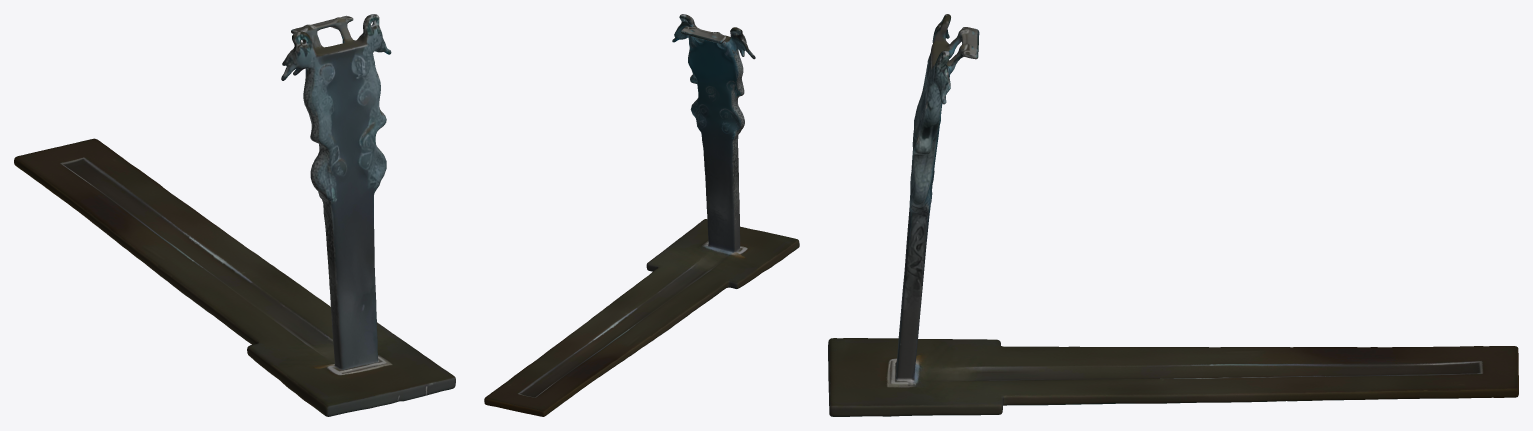
Rendered from guibiao！.fbx.
3 renders of one model, left to right at view 1: azimuth 30°, elevation 25°; view 2: azimuth 150°, elevation 25°; view 3: azimuth 270°, elevation 25°, orthographic. The views are drawn at different scales.
Visible parts, largest first — view 1: tripo_node_ae1849df; view 2: tripo_node_ae1849df; view 3: tripo_node_ae1849df.
Part boxes in pixels (x1=…): tripo_node_ae1849df: x1=14, y1=14, x2=455, y2=416; tripo_node_ae1849df: x1=484, y1=14, x2=799, y2=416; tripo_node_ae1849df: x1=828, y1=14, x2=1518, y2=416.
Bounding box in the file's own units: 22.66 × 56.22 × 99.99.
1 material, 1 textured.
